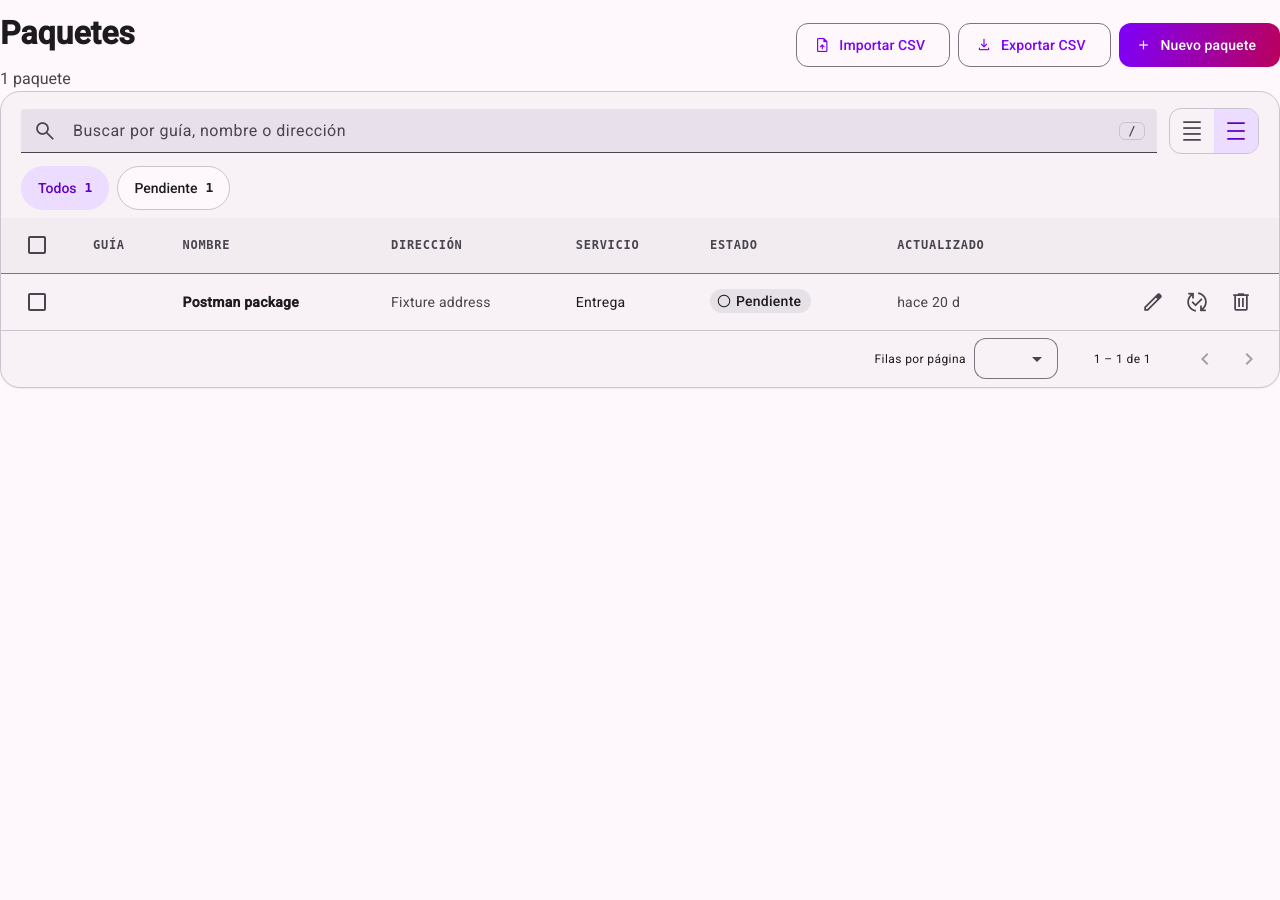
Test: PackageListComponent › borrado › borra tras confirmar y recarga
This screenshot has width=1280, height=900.
Click the button named "Eliminar paquete Postman package" at (1241, 302), box left=1219, top=280, right=1263, bottom=324
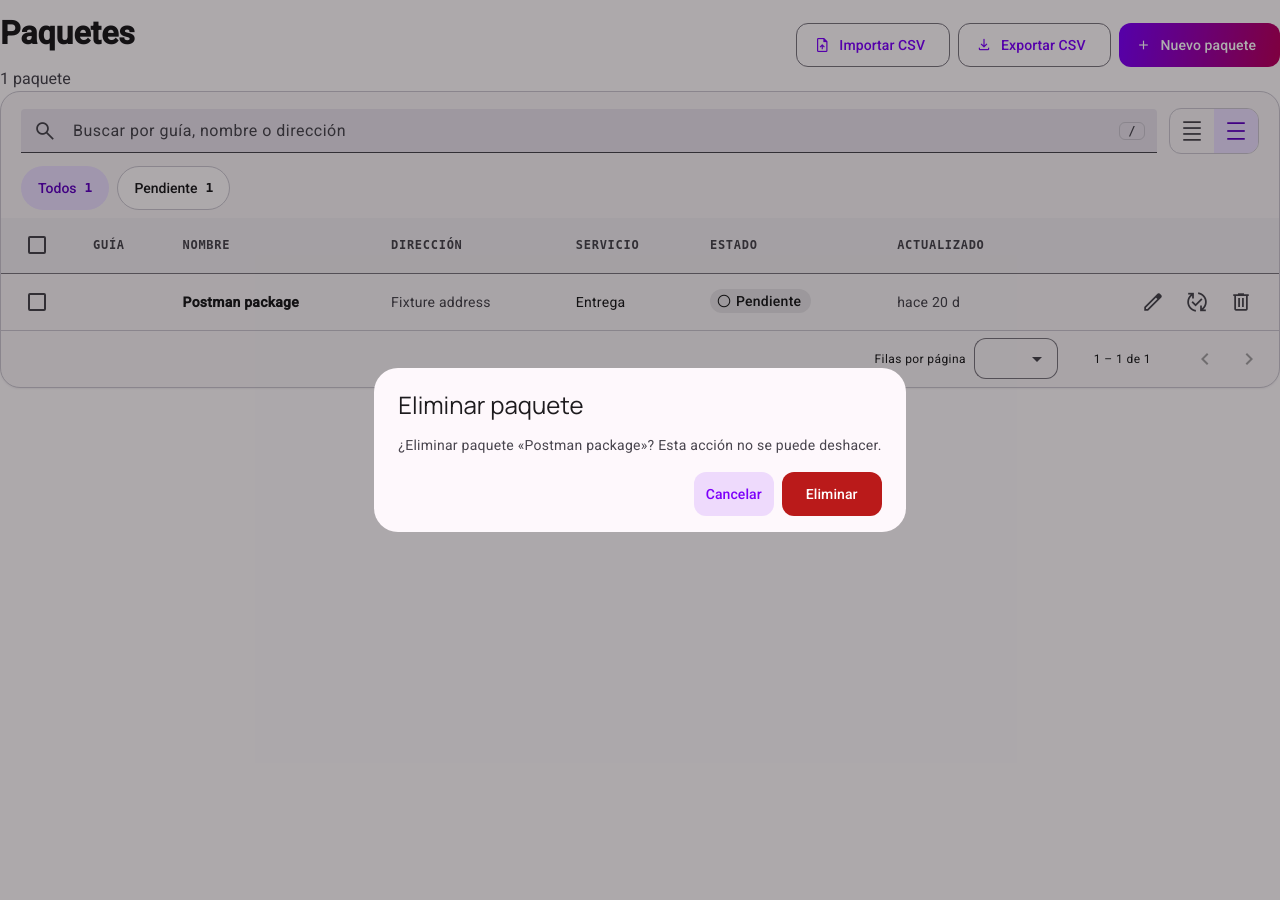
Click the button "Eliminar" at (832, 494), box left=782, top=472, right=882, bottom=516
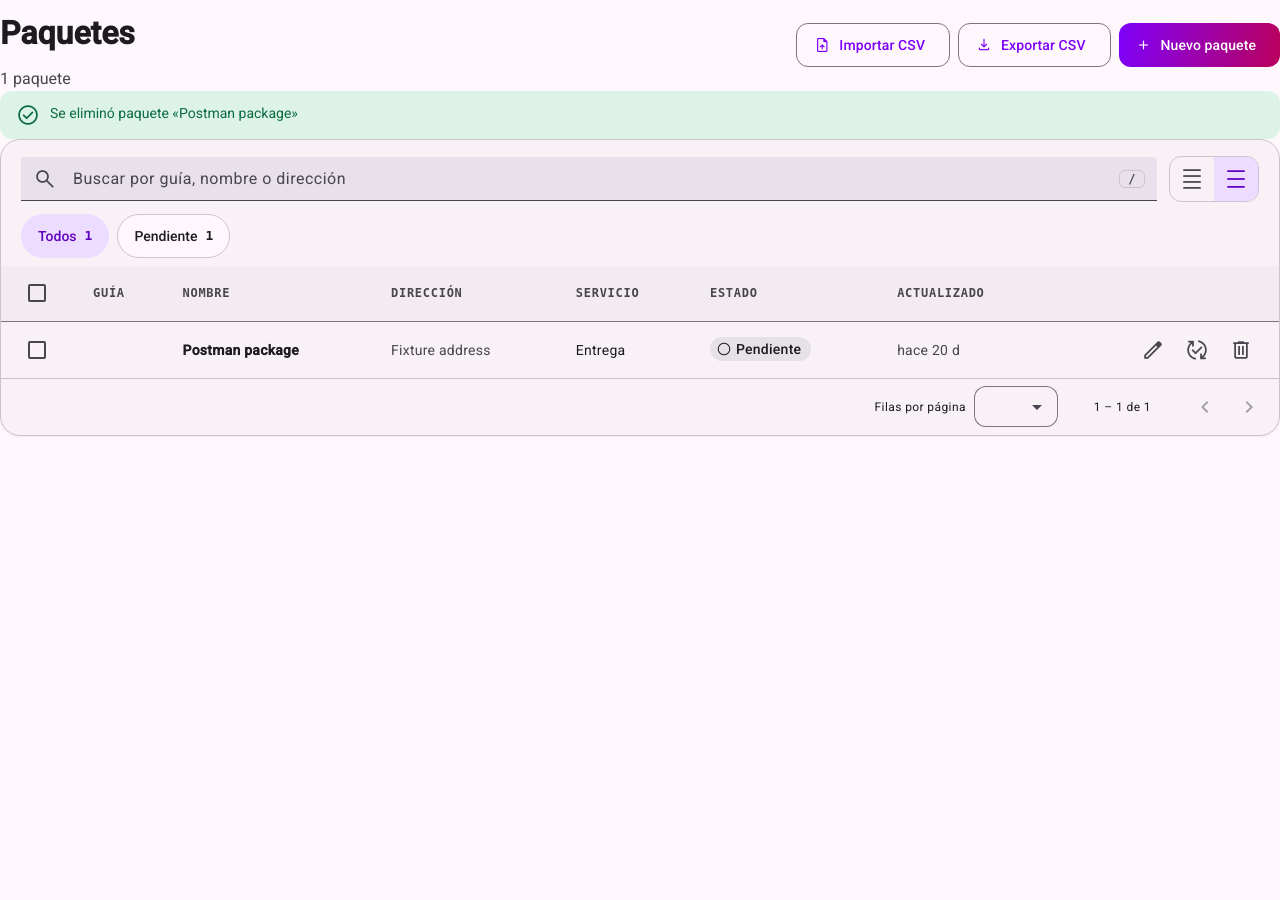
Expected: the text "Se eliminó paquete «Postman package»" is shown, left=50, top=103, right=298, bottom=123
